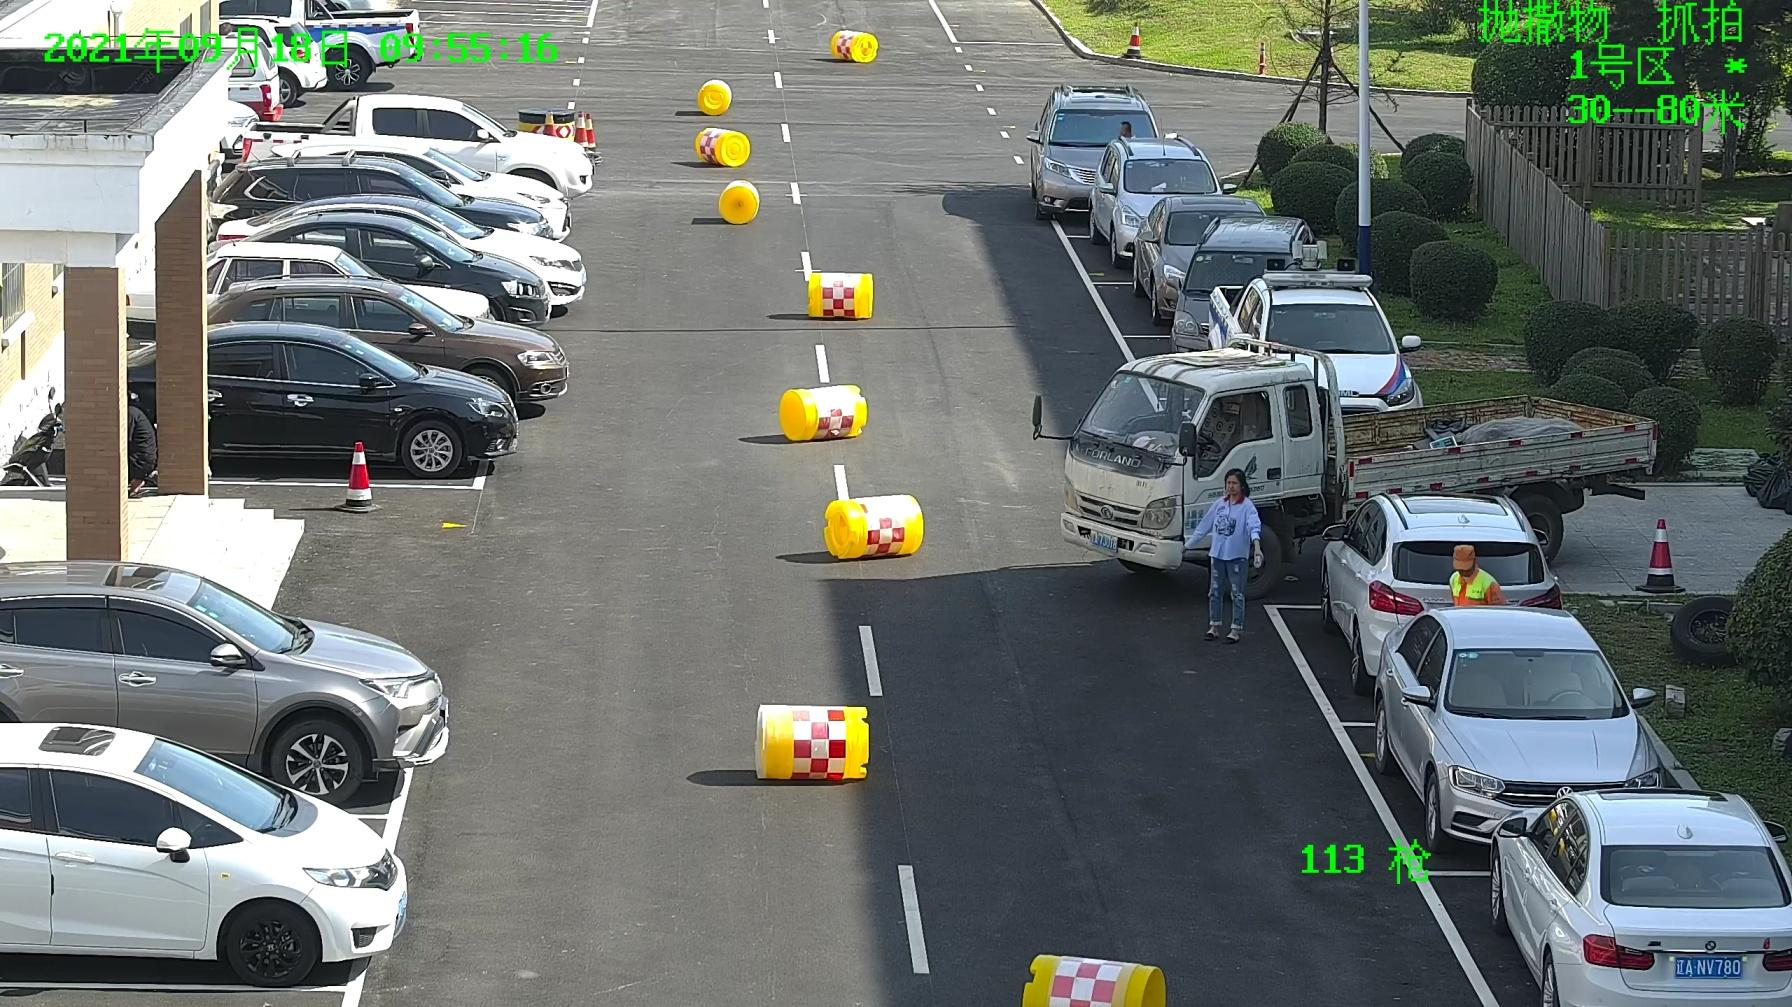cone_barrel: (754, 700, 868, 780), (1019, 952, 1166, 1006), (823, 495, 924, 559), (779, 380, 866, 443), (805, 270, 871, 318), (693, 124, 752, 166), (828, 26, 878, 63), (716, 180, 758, 223), (695, 78, 731, 114)
